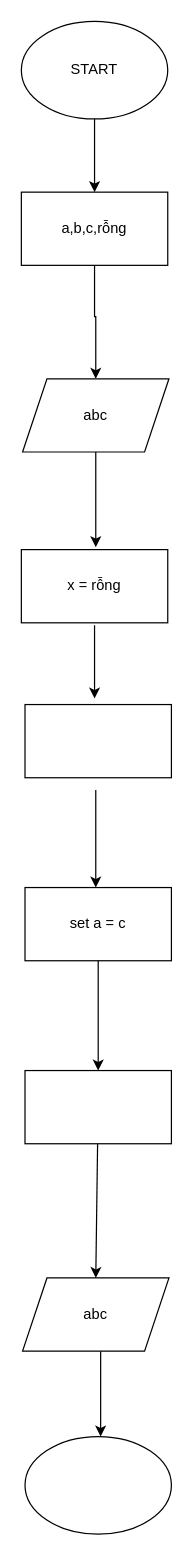
Image size: 193x1556. Some labels were removed from this diagram. Here are the shapes that lost their labels. From the top down, the centre of each, then its label:
At (97,740): "set x = a".
At (97,1106): "set c = x".
At (97,1484): "END".
